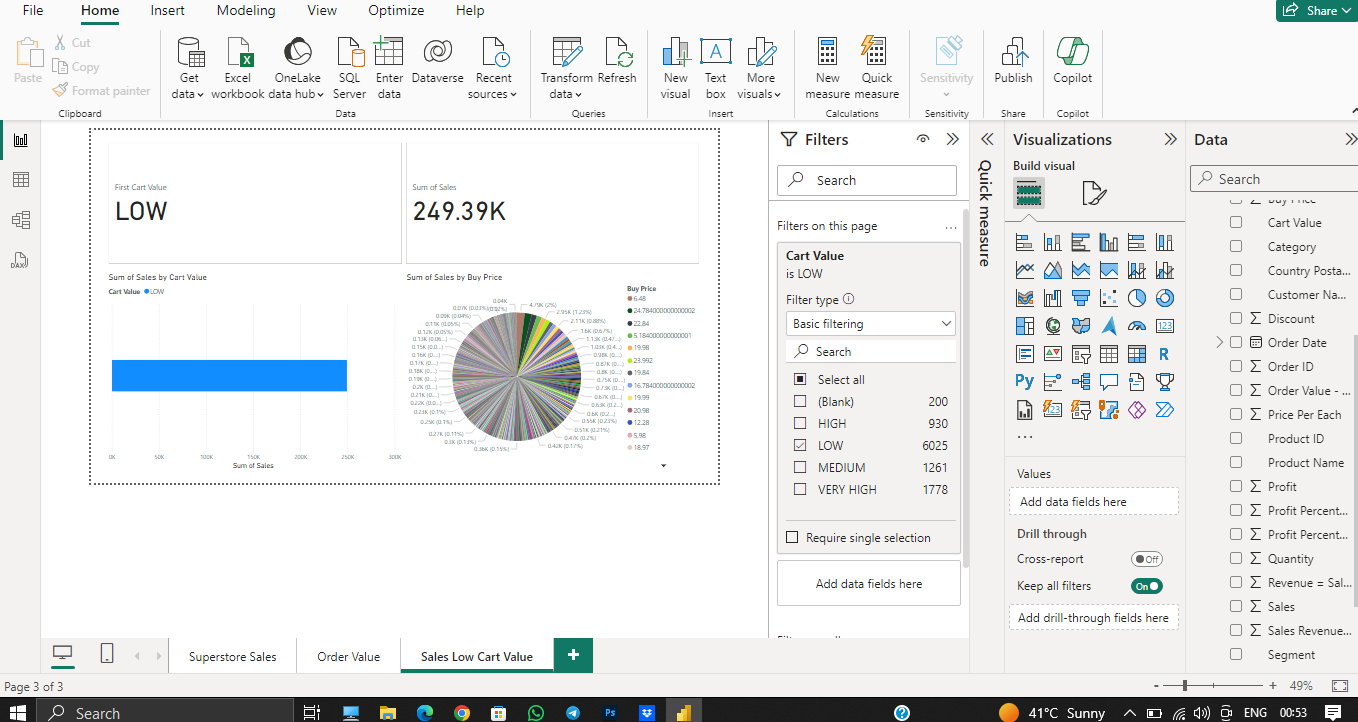

This screenshot's page, from the dashboard's own definition file:
{"tool":"powerbi","page":{"name":"Sales Low Cart Value","canvas":[1280,720],"ordinal":2},"visuals":[{"type":"cardVisual","fields":{"Data":["Min(Orders Value.Cart Value)","Sum(Orders Value.Sales)"]},"box":[30.6,19.4,1216.7,258.3],"z":0},{"type":"pieChart","fields":{"Category":["Orders Value.Buy Price"],"Y":["Sum(Orders Value.Sales)"]},"box":[638.9,288.9,608.3,408.3],"z":1000},{"type":"barChart","fields":{"Y":["Sum(Orders Value.Sales)"],"Series":["Orders Value.Cart Value"]},"box":[31,289,608,408],"z":2000}]}

Visuals, with their boxes on the page's 1280x720 design canvas (x1, y1, x2, y2). These are canvas units, not pixel positions in the 1358x722 screenshot, which may show the page scaled, cropped or inside an application window:
cardVisual - Min(Orders Value.Cart Value) x Sum(Orders Value.Sales): detection(31, 19, 1247, 278)
pieChart - Orders Value.Buy Price x Sum(Orders Value.Sales): detection(639, 289, 1247, 697)
barChart - Sum(Orders Value.Sales) x Orders Value.Cart Value: detection(31, 289, 639, 697)
